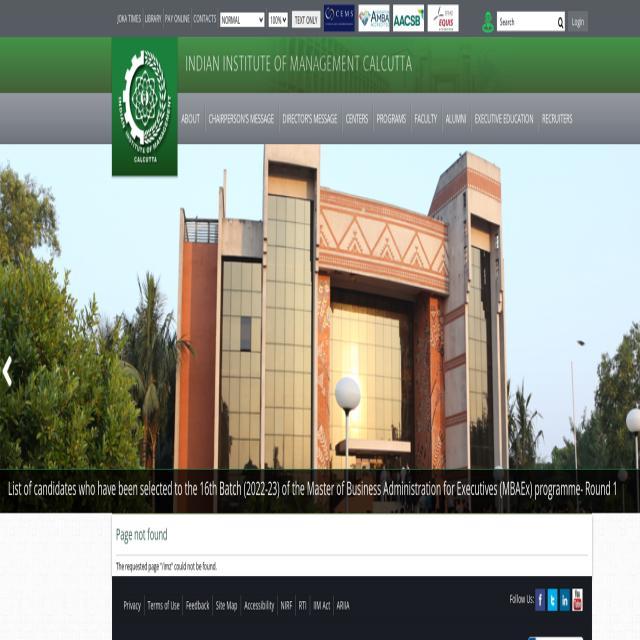button: (112, 38, 177, 176), (205, 92, 278, 144), (471, 92, 537, 144), (279, 92, 341, 144), (538, 92, 576, 144), (372, 92, 410, 144), (342, 92, 372, 144), (411, 92, 441, 144), (442, 92, 470, 144), (177, 92, 203, 144), (358, 5, 390, 32), (393, 5, 425, 32), (324, 5, 354, 32), (428, 5, 458, 32), (1, 350, 15, 395), (292, 11, 321, 28), (568, 11, 588, 32), (482, 11, 494, 33), (535, 589, 545, 611), (548, 589, 558, 611), (560, 589, 570, 611), (572, 589, 582, 611), (558, 14, 564, 29)
field: (496, 12, 566, 32), (220, 12, 264, 27), (268, 12, 288, 27)
